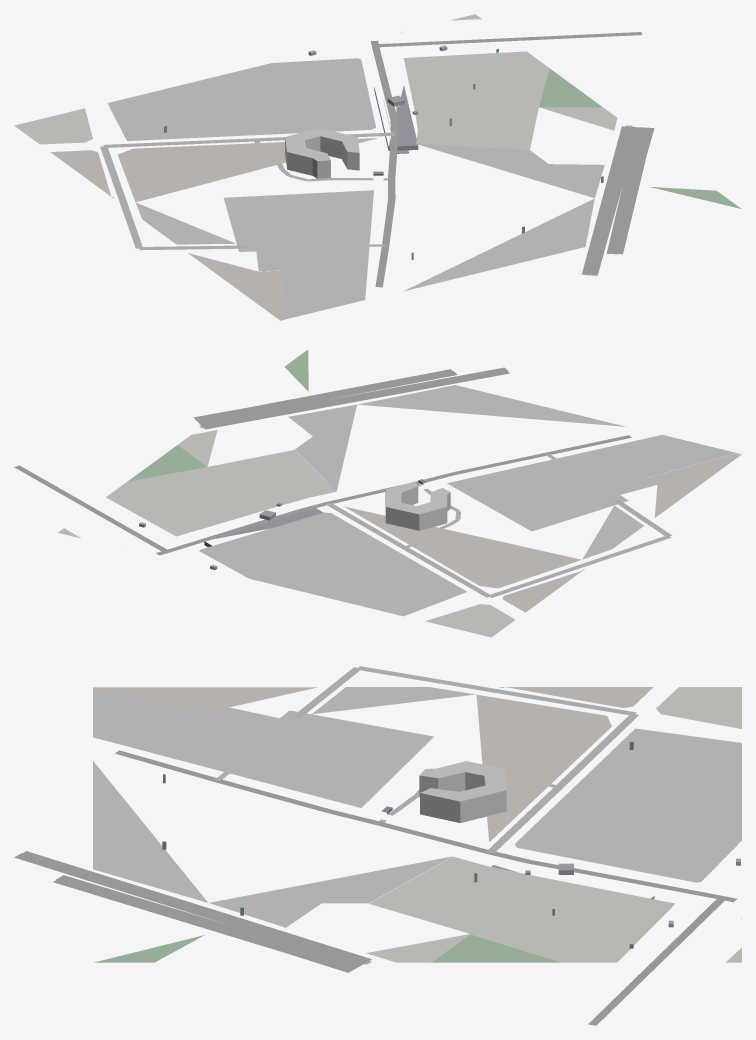
3 renders of one model, top to bottom at view 1: azimuth 30°, elevation 25°; view 2: azimuth 150°, elevation 25°; view 3: azimuth 270°, elevation 25°, orthographic. The views are drawn at different scales.
Size of the model in its own units: 653 by 42.85 by 561.
